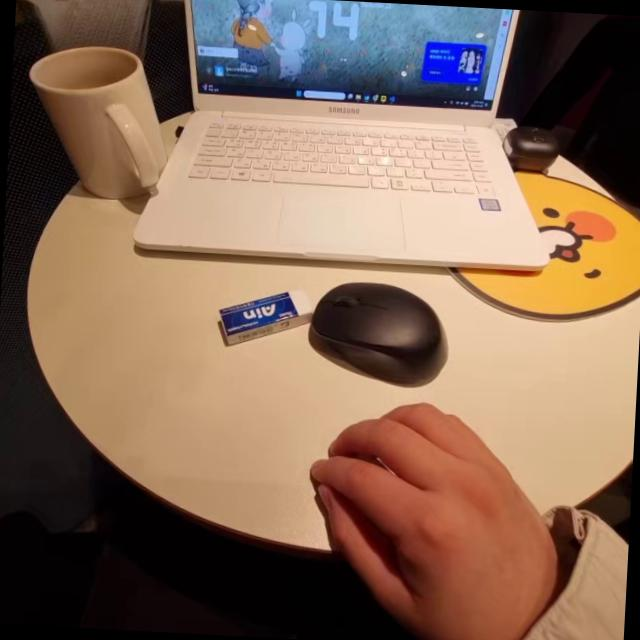eraser: (210, 284, 314, 362)
hand: (300, 390, 552, 625)
mouse: (309, 267, 458, 369)
